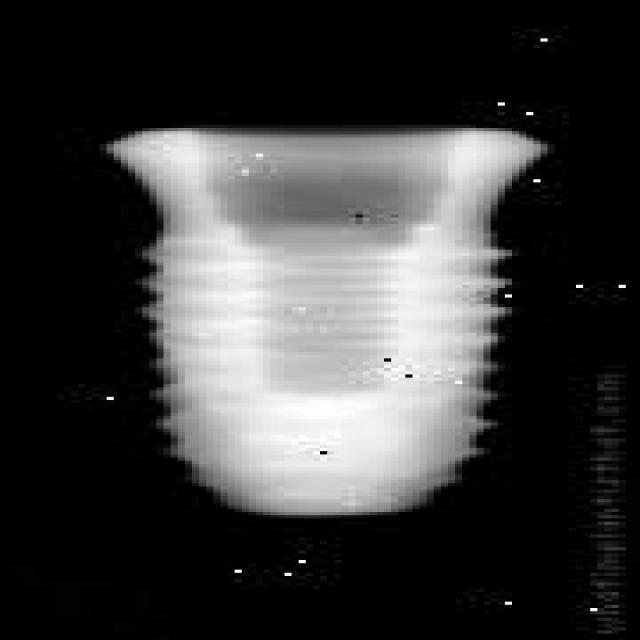Titan Implant Implant: (99, 122, 560, 525)
